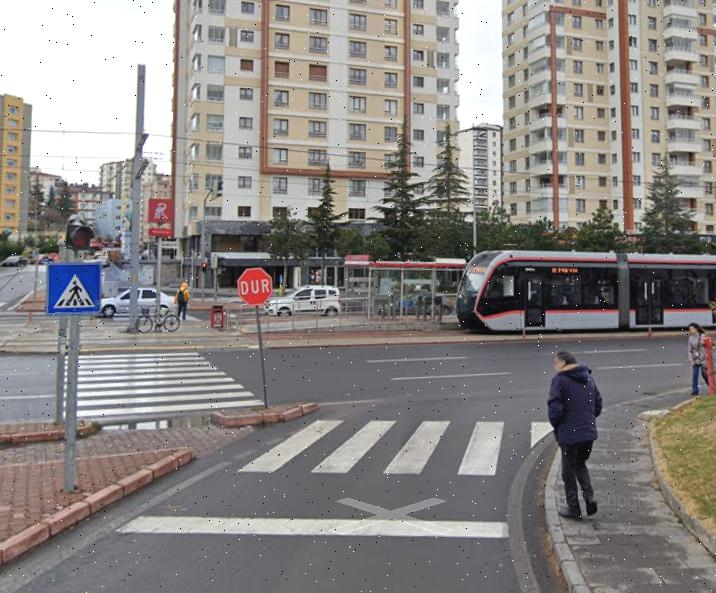stop: (236, 268, 274, 306)
